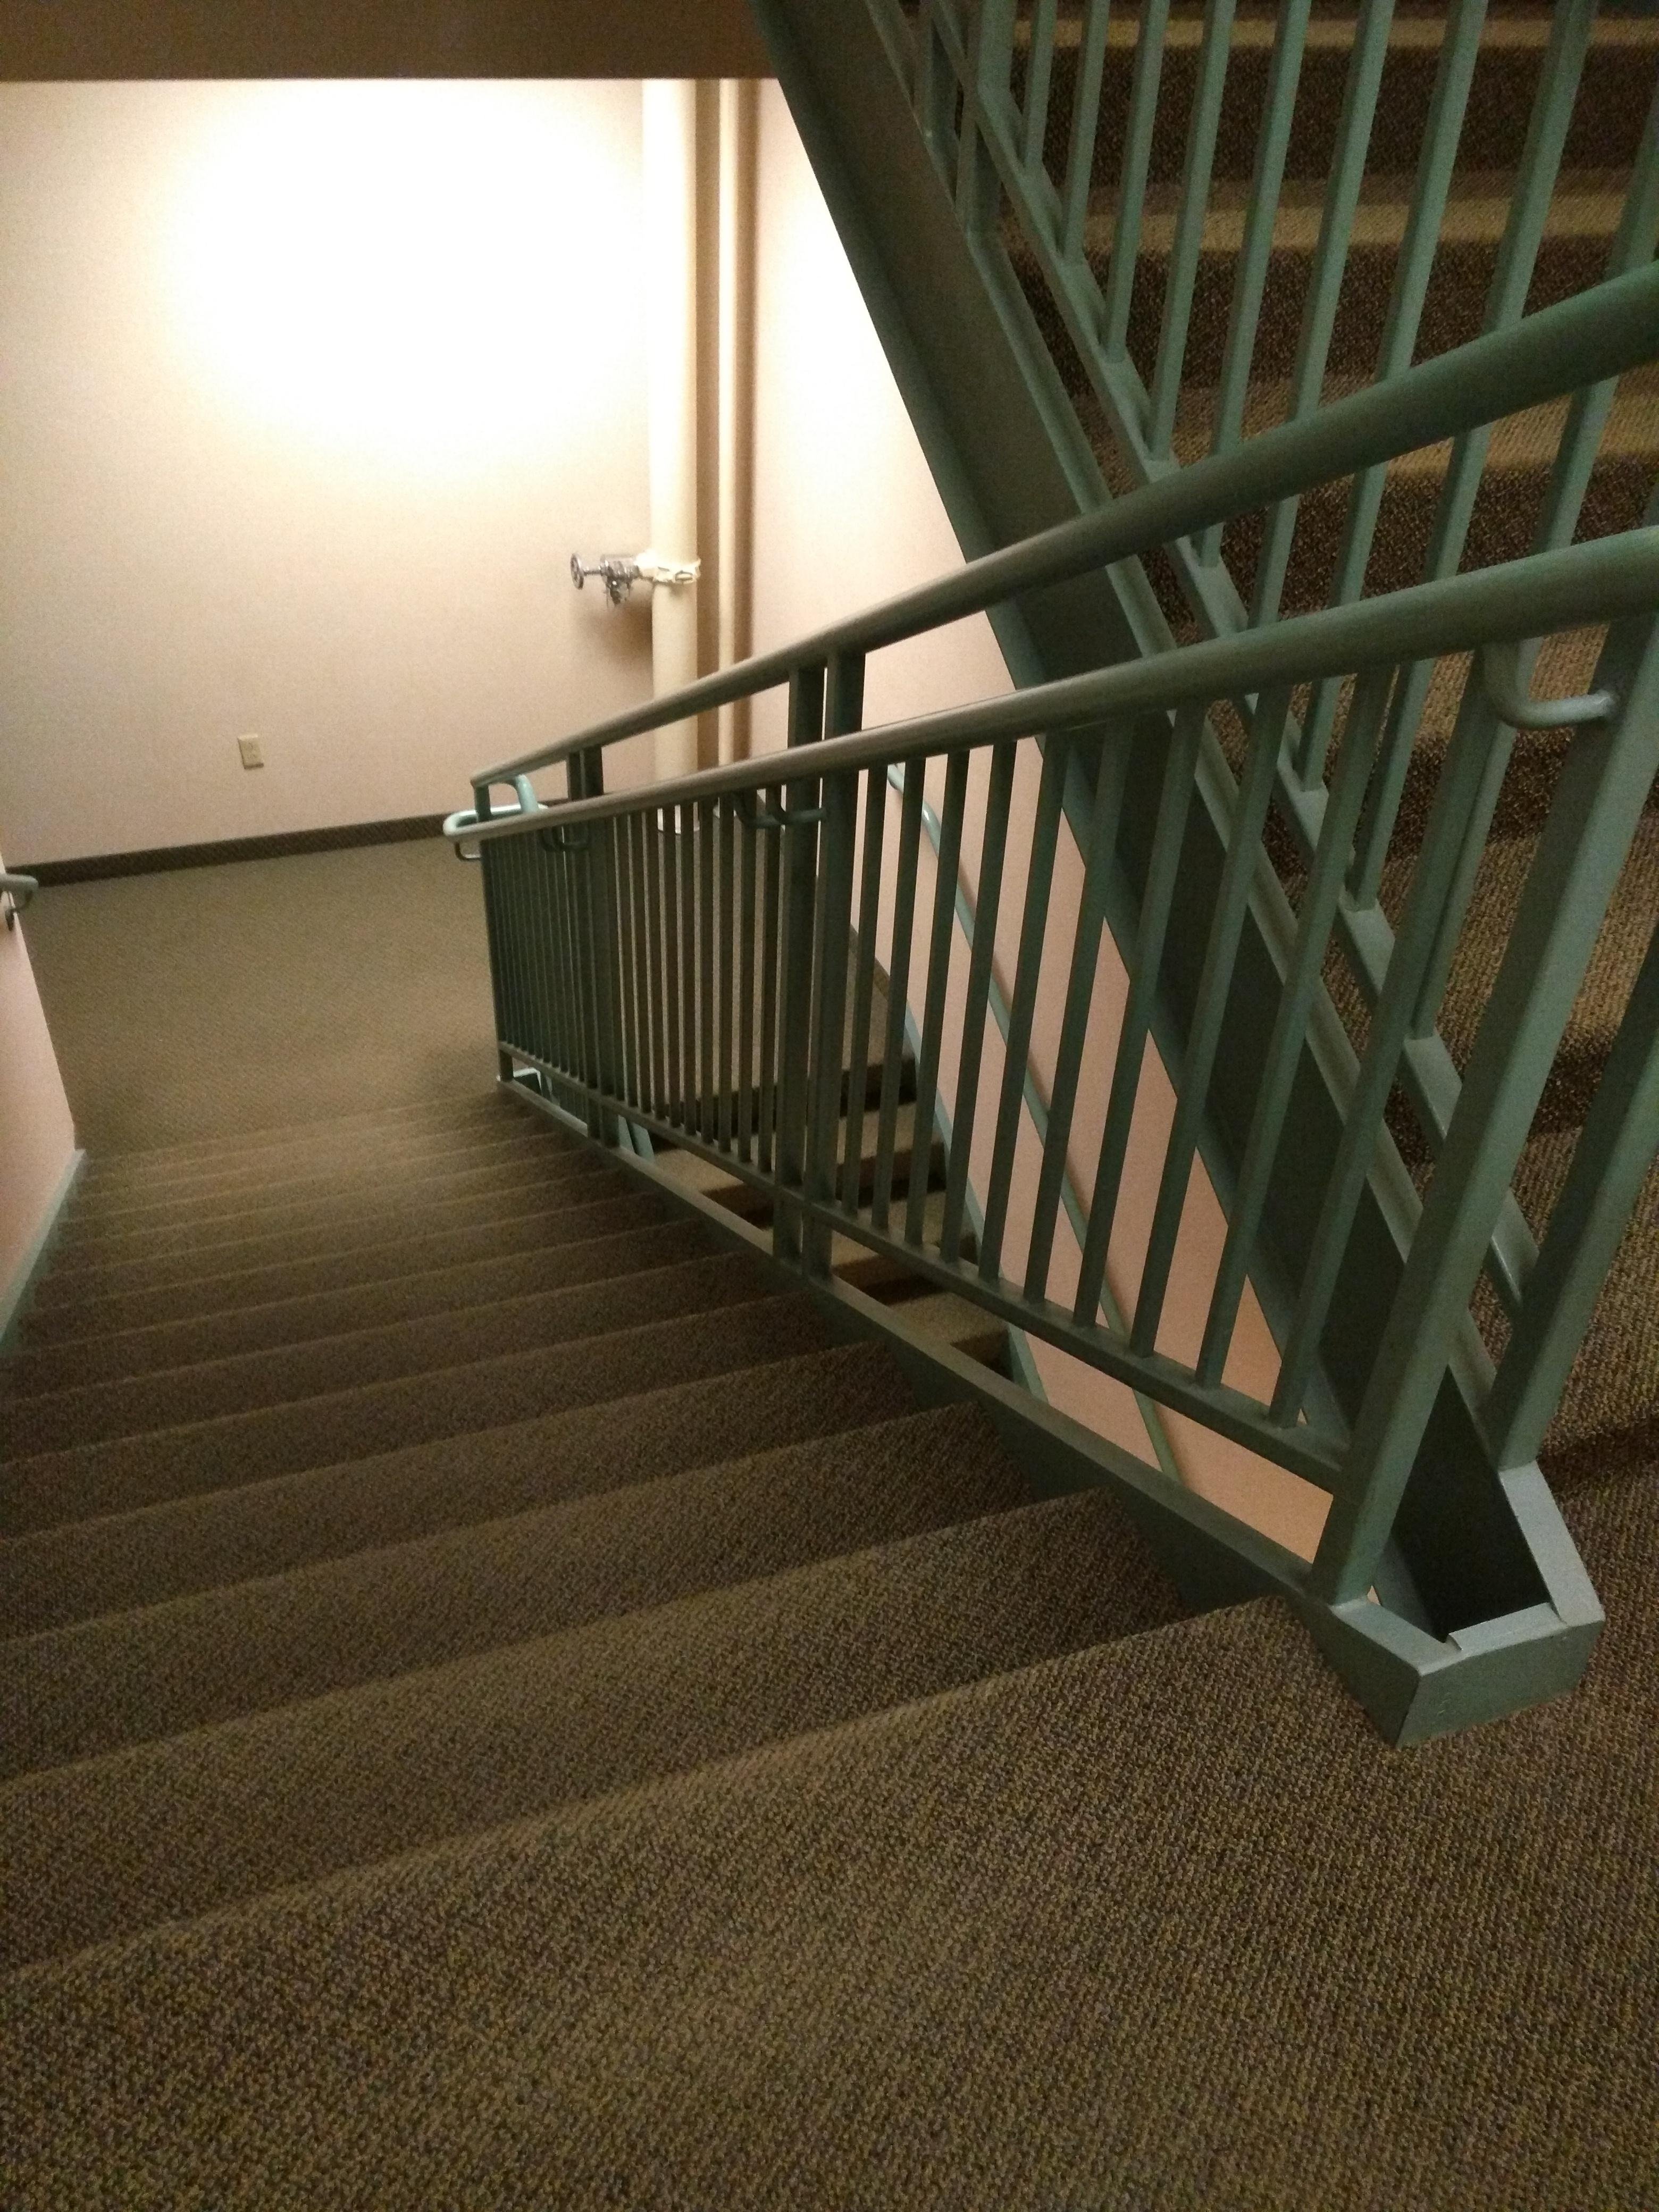stairs_down: (3, 1109, 1298, 1972)
